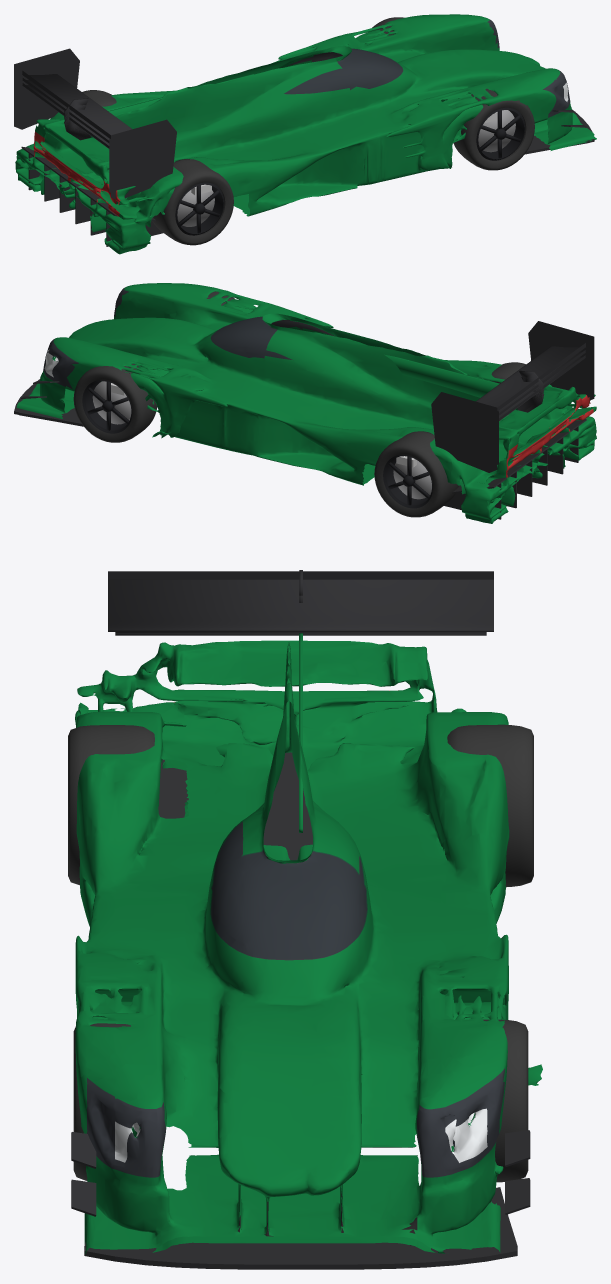
File: ligier_js_p217_gibson.glb
3 renders of one model, top to bottom at view 1: azimuth 30°, elevation 25°; view 2: azimuth 150°, elevation 25°; view 3: azimuth 270°, elevation 25°, orthographic. The views are drawn at different scales.
Parts seen in each view (by area): view 1: body, bumper_rear, wing_rear_up3, bumper_front, wheel_rr_spin, wheel_fr_spin, cabin, wing_rear_up2, diffuser, wing_rear, wheel_rl_spin, fin; view 2: body, bumper_rear, wing_rear_up3, bumper_front, wheel_rl_spin, wheel_fl_spin, diffuser, cabin, wing_rear, fin, wing_rear_up2, splitter (+2 smaller); view 3: body, bumper_front, bumper_rear, wing_rear_up3, cabin, splitter_up, wheel_rl_spin, splitter, diffuser, wheel_rr_spin, wheel_fl_spin, canards (+1 smaller).
Part boxes in pixels (x1,y1,x2,y2): body: (56,14,546,216); bumper_rear: (15,114,162,254); wing_rear_up3: (14,48,176,199); bumper_front: (443,14,596,150); wheel_rr_spin: (152,159,233,245); wheel_fr_spin: (453,88,534,170); cabin: (284,48,403,94); wing_rear_up2: (16,58,110,192); diffuser: (21,146,163,246); wing_rear: (16,65,110,188); wheel_rl_spin: (82,90,116,106); fin: (90,74,253,137); body: (67,283,551,485); bumper_rear: (451,386,596,523); wing_rear_up3: (431,321,594,472); bumper_front: (16,283,171,418); wheel_rl_spin: (374,431,458,517); wheel_fl_spin: (73,364,157,442); diffuser: (444,419,586,519); cabin: (210,316,291,359); wing_rear: (497,337,592,460); fin: (384,354,517,410); wing_rear_up2: (497,330,592,464); splitter: (19,390,80,423); body: (75,645,542,1190); bumper_front: (79,1058,503,1254); bumper_rear: (75,640,466,765); wing_rear_up3: (108,570,493,631); cabin: (210,821,367,959); splitter_up: (84,1187,517,1269); wheel_rl_spin: (447,724,533,887); splitter: (84,1190,517,1259); diffuser: (158,752,312,860); wheel_rr_spin: (68,725,154,885); wheel_fl_spin: (483,1019,528,1182); canards: (71,1130,530,1216).
Size of the model in its own units: 4.88 by 1.2 by 2.04.
